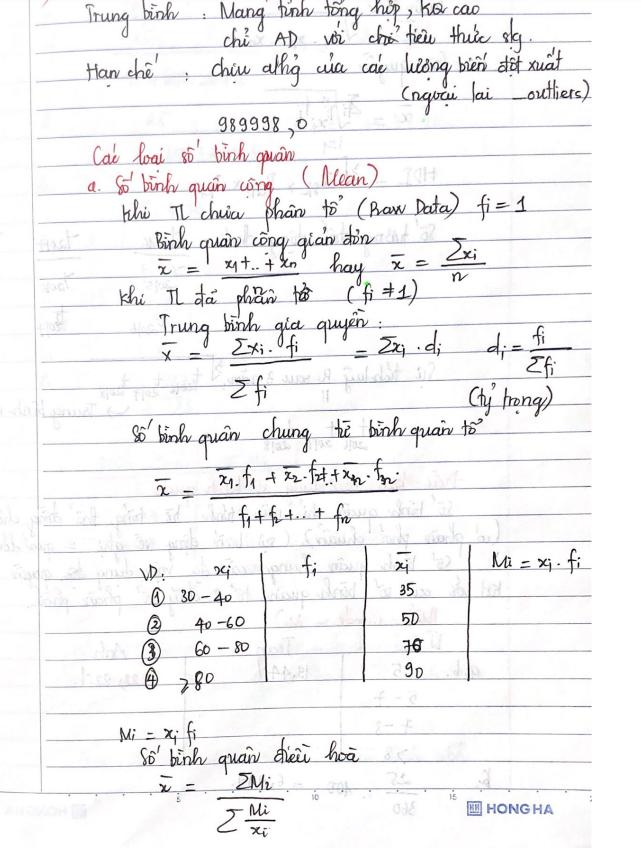text: (157, 323, 581, 404), (150, 454, 402, 534), (128, 411, 483, 465), (119, 189, 531, 232), (156, 236, 489, 289), (209, 43, 565, 90), (86, 161, 382, 210), (119, 275, 419, 319), (221, 15, 527, 55), (155, 767, 291, 846), (151, 222, 377, 265), (156, 306, 385, 347), (137, 735, 361, 776), (90, 136, 299, 179), (217, 0, 482, 33), (398, 76, 594, 118), (80, 0, 184, 41), (464, 380, 556, 417), (84, 51, 163, 90), (214, 112, 309, 142), (490, 546, 584, 576), (117, 717, 199, 747), (148, 587, 235, 610), (191, 638, 251, 659), (177, 668, 218, 697), (192, 614, 247, 635), (486, 802, 557, 817), (139, 563, 170, 588), (295, 553, 323, 579), (390, 551, 414, 577), (399, 635, 425, 657), (401, 660, 427, 682), (141, 639, 160, 666), (396, 580, 419, 600), (398, 609, 421, 629), (211, 563, 233, 580), (146, 614, 162, 637), (144, 668, 159, 691)
